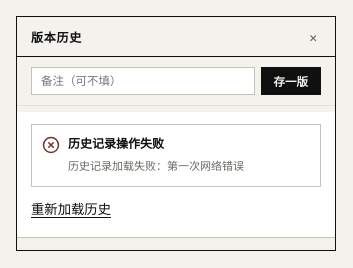
it: 版本历史的 Arc Alert 提示 › updates a persistent error in place and does not hide or misreport a failed snapshot as success
Expected: the text "历史记录操作失败" is shown, [68,137,164,151]
What coordinates should you click on to do the following:
click the button "重新加载历史"
I would click on:
 (71, 209)
Its box is [31,193,111,225].
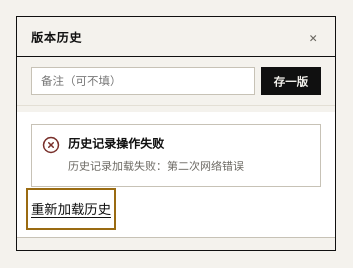
Expected: the text "历史记录加载失败：第二次网络错误" is shown, [68,160,244,172]
What coordinates should you click on to do the following:
click the button "存一版"
I would click on:
 (291, 81)
Its box is [260,67,321,95].
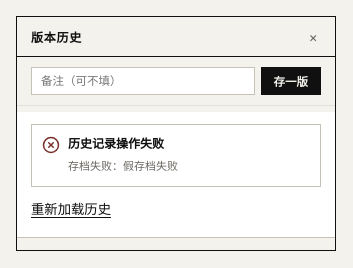
Expected: the text "存档失败：假存档失败" is shown, [68,160,178,172]
